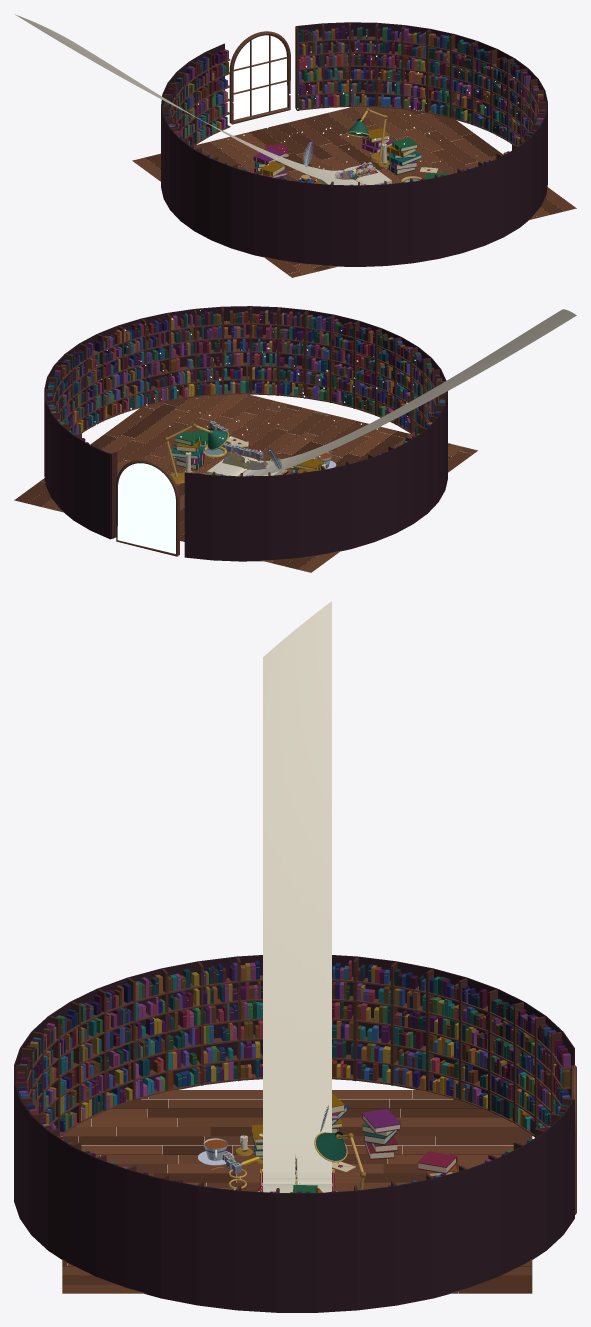
The model's file is popup.glb.
3 views of the same model, one above another, from view 1: azimuth 30°, elevation 25°; view 2: azimuth 150°, elevation 25°; view 3: azimuth 270°, elevation 25° (orthographic). The views are drawn at different scales.
Parts seen in each view (by area): view 1: pb_room, pb_desk, pb_room_glow, pb_leaf, pb_page_r; view 2: pb_room, pb_desk, pb_room_glow, pb_leaf, pb_page_r; view 3: pb_room, pb_leaf, pb_desk.
Part boxes in pixels (x1,y1,x2,y2): pb_room: (161,22,547,266); pb_desk: (132,106,576,277); pb_room_glow: (198,35,521,171); pb_leaf: (15,14,355,185); pb_page_r: (343,165,391,185); pb_room: (44,306,447,561); pb_desk: (14,394,477,572); pb_room_glow: (89,310,415,553); pb_leaf: (244,309,576,476); pb_page_r: (207,455,257,476); pb_room: (14,955,576,1312); pb_leaf: (263,601,331,1177); pb_desk: (62,1090,532,1293).
Size of the model in its own units: 268 by 126 by 180.
